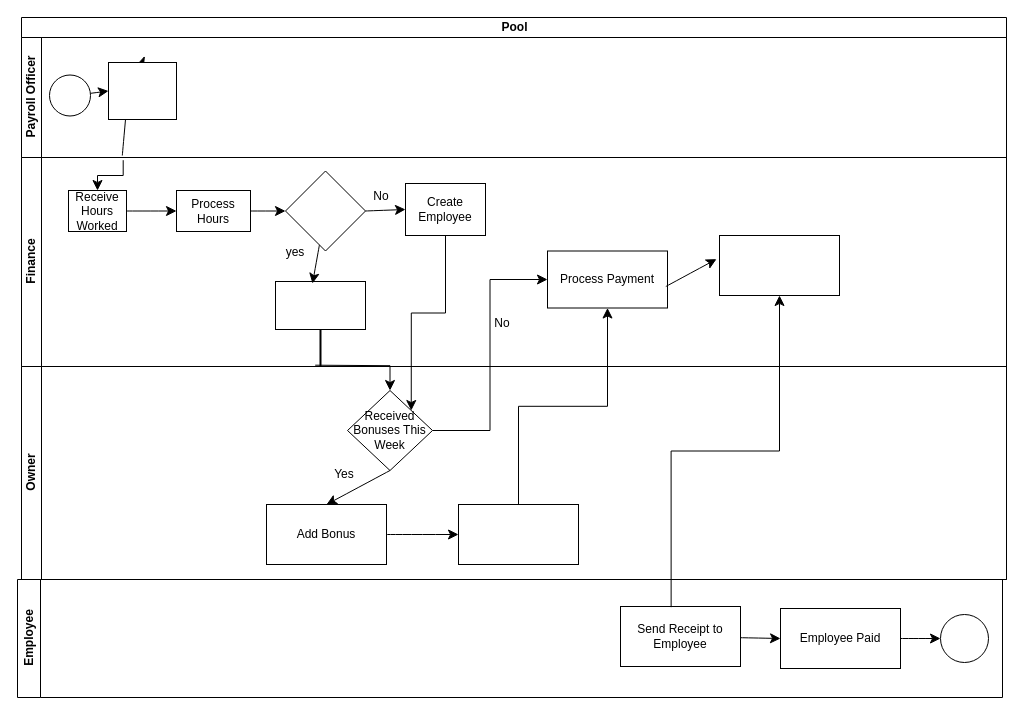
This 1024x715 diagram has some shape labels left out. The shapes that lost their labels are listed below. From the top down, each one's centre as x and y in pixels, then its label:
At pixel 69 95: "Start".
At pixel 142 91: "Submit Employee Hours Worked".
At pixel 325 210: "New Employee?".
At pixel 779 265: "Deduct from Expenses".
At pixel 320 305: "Process Week of Payment".
At pixel 518 534: "Add Wage + Bonus".
At pixel 964 638: "End".
